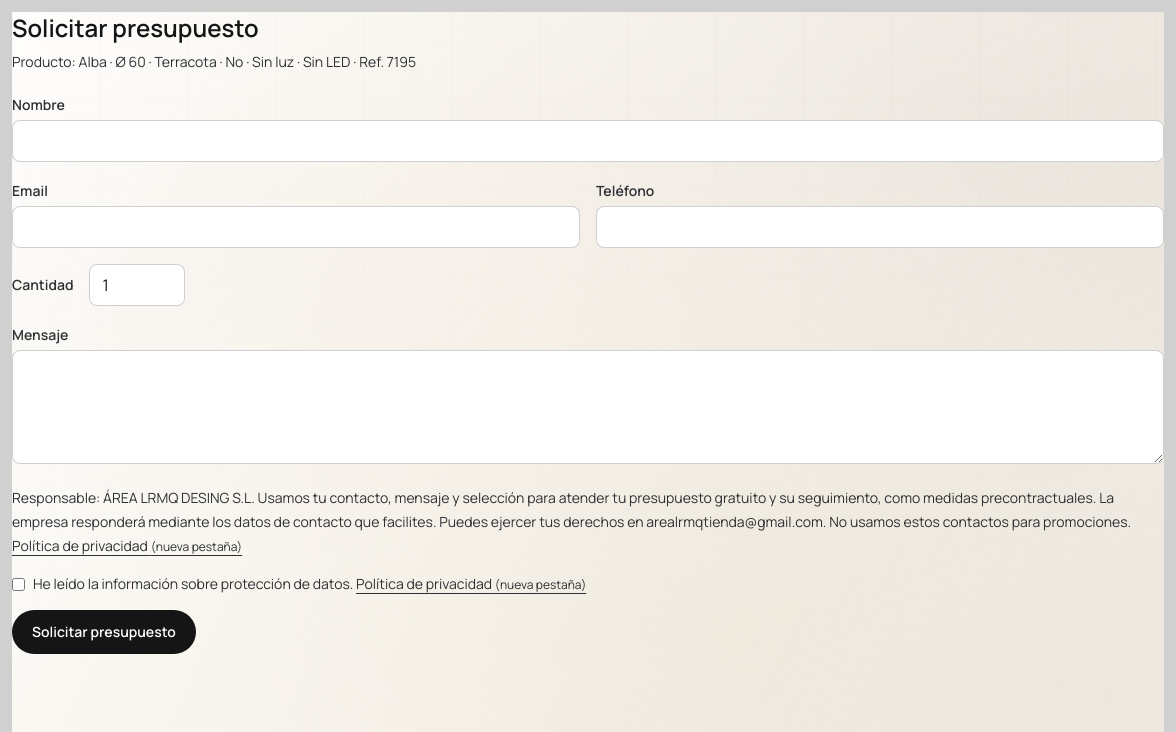
QuoteRequestForm › keeps entered values and shows the server rate-limit message
This screenshot has width=1176, height=732.
Type "Ana" into the field labelled "Nombre" at (588, 141), box [12,120,1164,162]
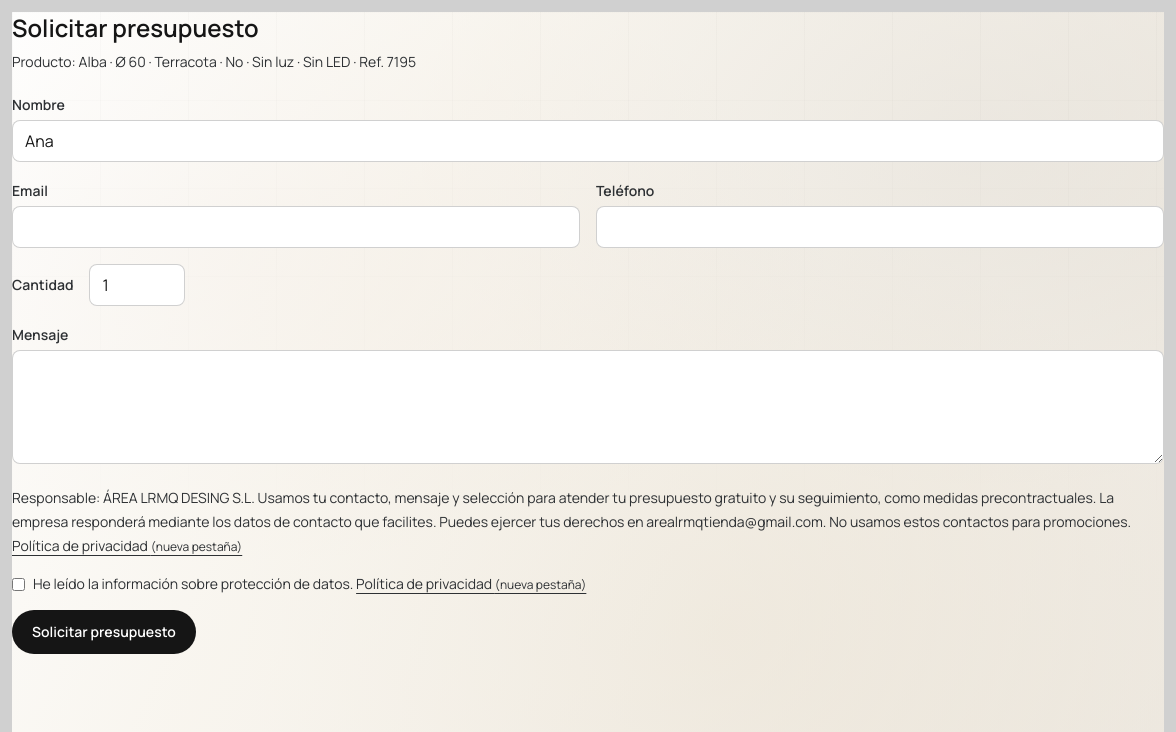
Type "ana@example.com" into the field labelled "Email" at (296, 227), box [12,206,580,248]
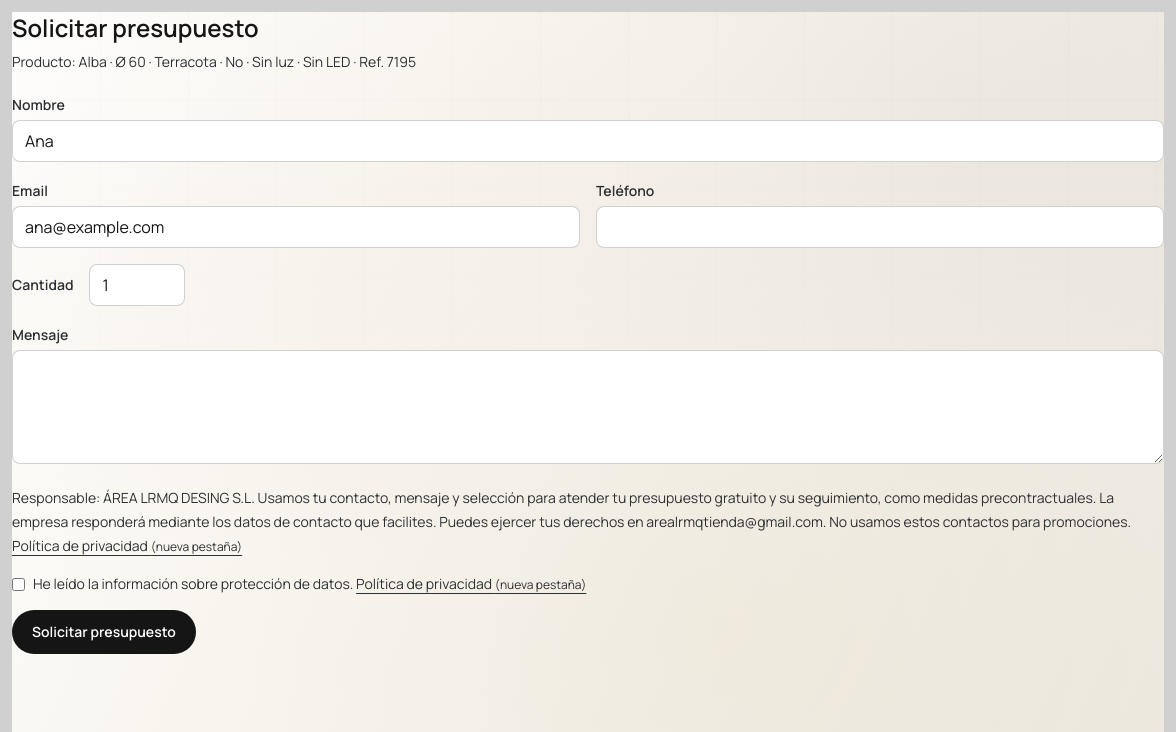
Click the checkbox at (18, 584), box [12,578,25,591]
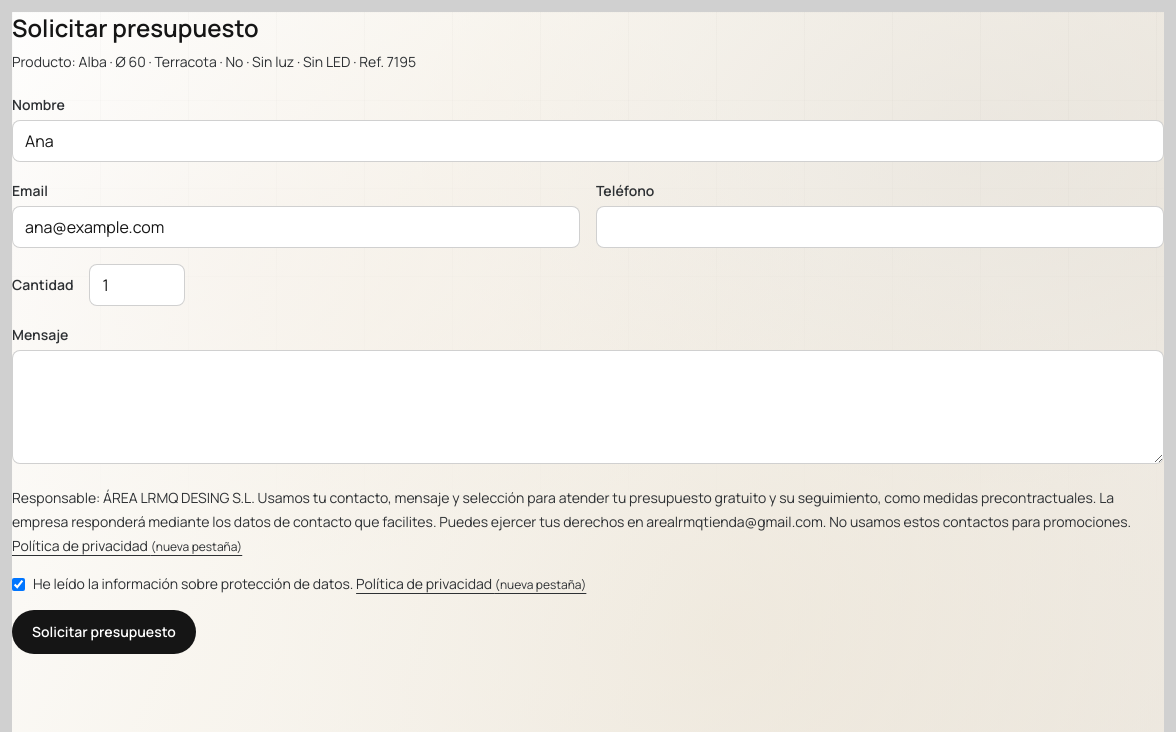
Click the button "Solicitar presupuesto" at (104, 632), box [12,610,196,654]
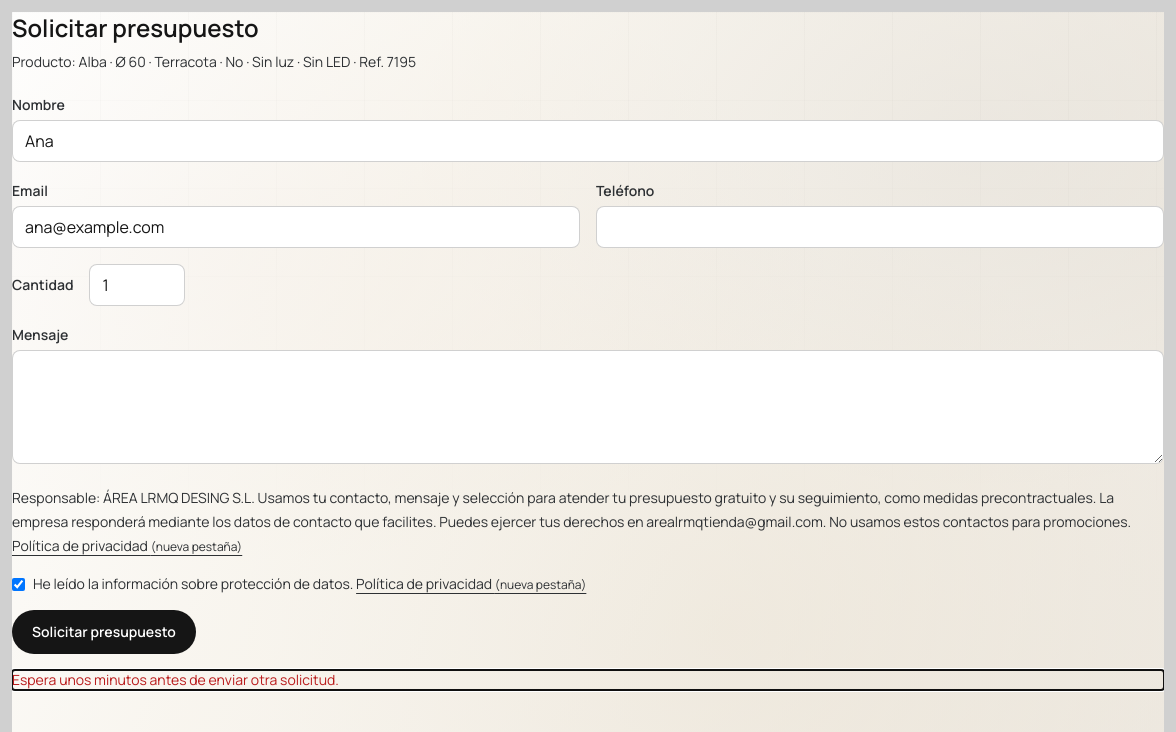
Expected: the text "Espera unos minutos antes de enviar otra solicitud." is shown, [12,670,339,689]
